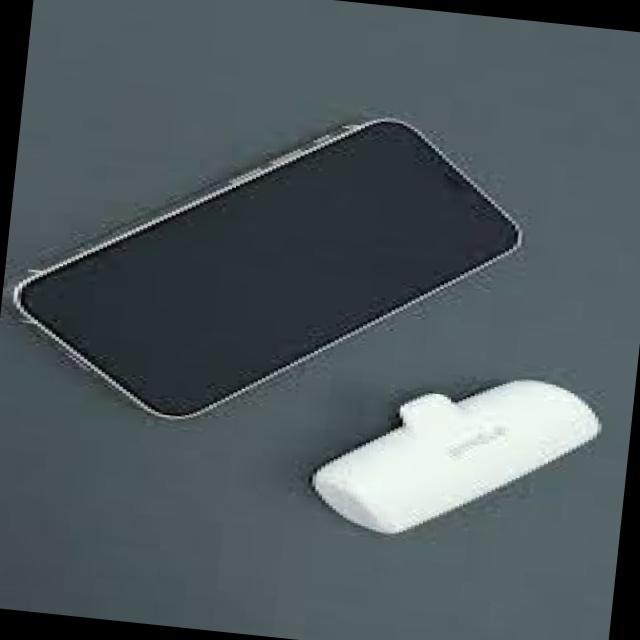portable-charger: (288, 360, 604, 558)
